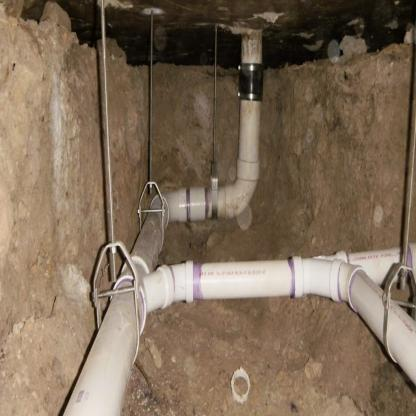PVC: (63, 34, 416, 414)
